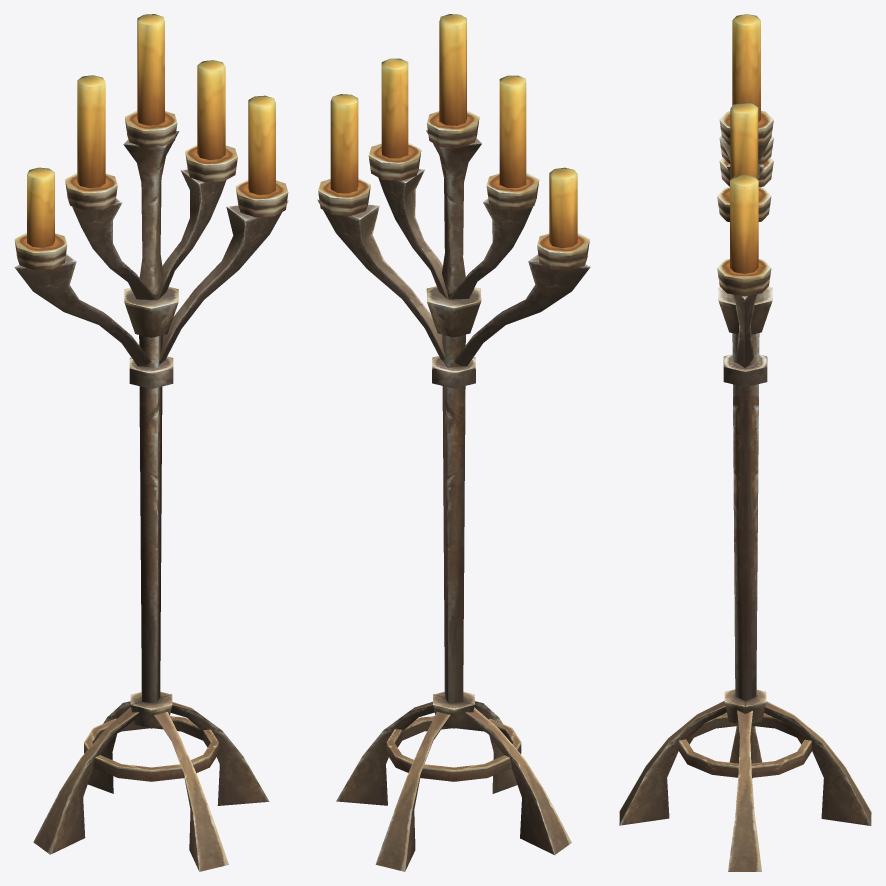
File: Candlestick_Floor_01.FBX
The picture shows the model from 3 angles, left to right: view 1: azimuth 30°, elevation 25°; view 2: azimuth 150°, elevation 25°; view 3: azimuth 270°, elevation 25°; orthographic projection.
Visible parts, largest first — view 1: Candlestick_Floor_01; view 2: Candlestick_Floor_01; view 3: Candlestick_Floor_01.
Part boxes in pixels (<box>): Candlestick_Floor_01: <box>14,14,288,871</box>; Candlestick_Floor_01: <box>317,14,590,871</box>; Candlestick_Floor_01: <box>619,14,871,871</box>.
Size of the model in its own units: 78.81 by 63 by 220.
